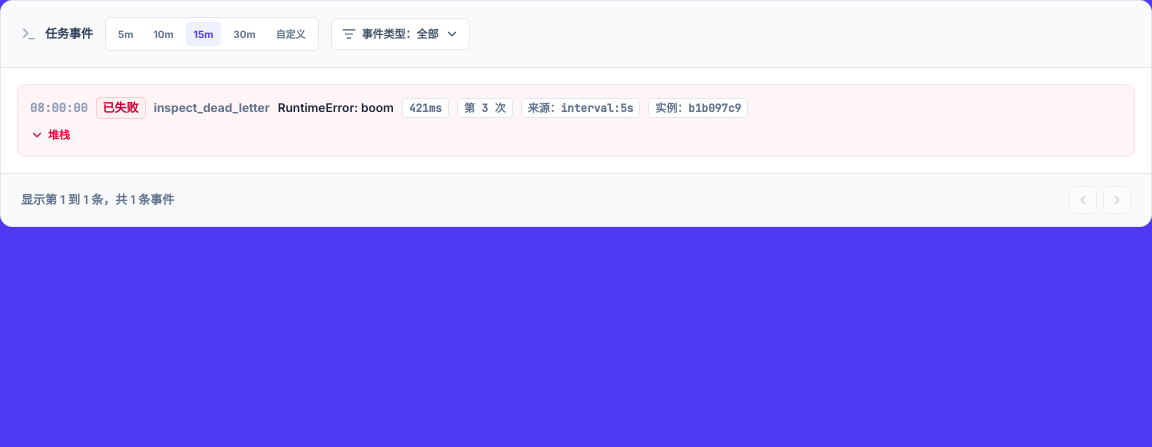
Scenario: TaskEventDiagnostics › localizes event filter groups in Chinese
Click the button "事件类型：全部".
click(400, 34)  # box left=331, top=18, right=470, bottom=50
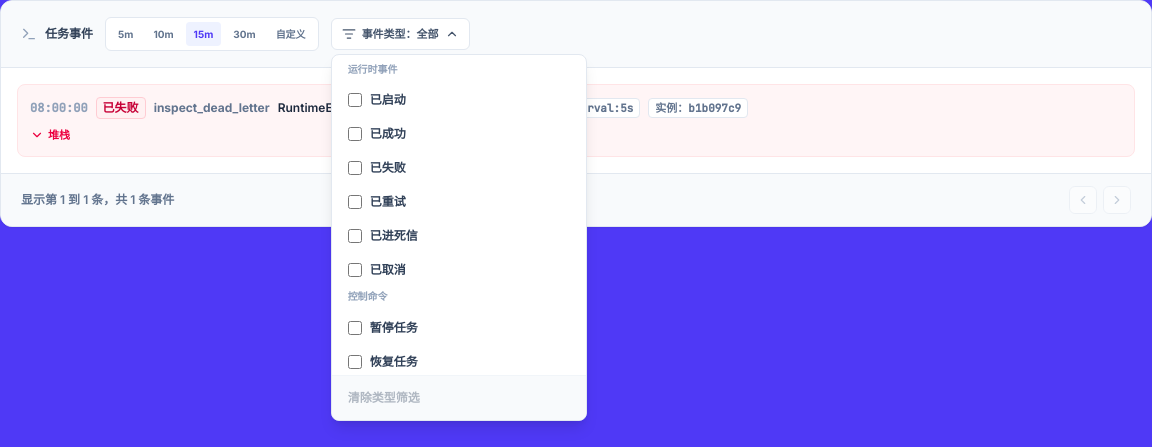
Result: the text "运行时事件" is shown at left=348, top=63, right=398, bottom=75
Result: the text "控制命令" is shown at left=348, top=290, right=388, bottom=302
